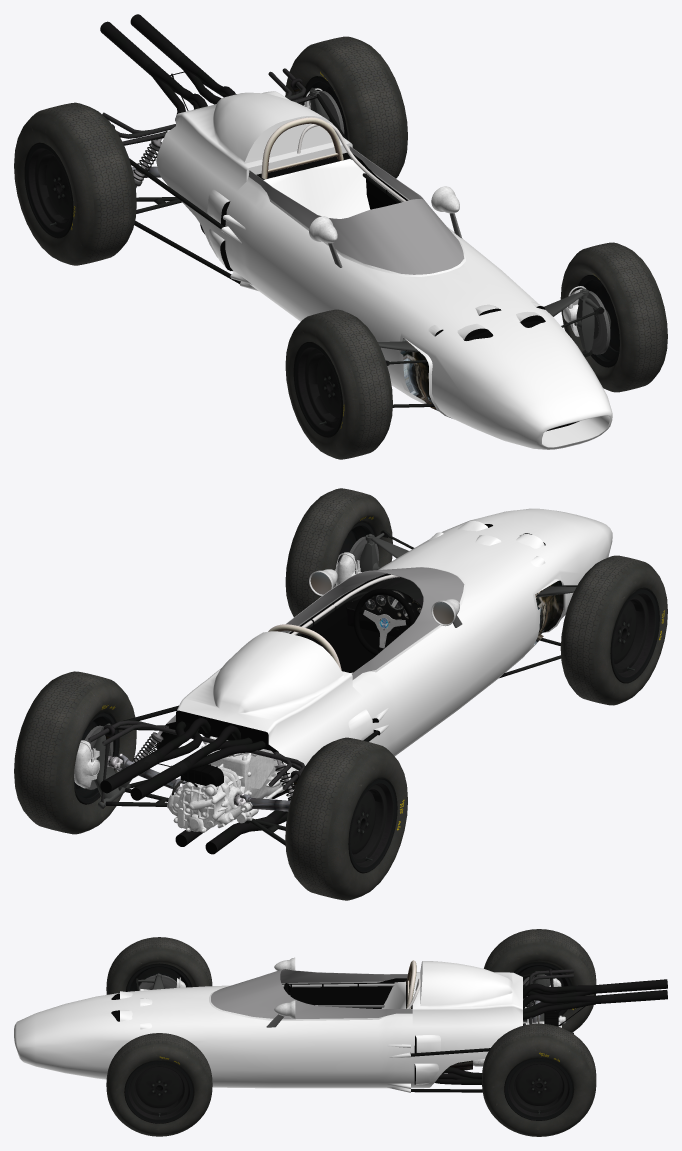
File: f1_1965_honda_ra272.glb
The picture shows the model from 3 angles, top to bottom: view 1: azimuth 30°, elevation 25°; view 2: azimuth 150°, elevation 25°; view 3: azimuth 270°, elevation 25°; orthographic projection. The views are drawn at different scales.
Parts seen in each view (by area): view 1: f1_1965_honda_ra272; view 2: f1_1965_honda_ra272; view 3: f1_1965_honda_ra272.
Part boxes in pixels (x1=…): f1_1965_honda_ra272: x1=14, y1=14, x2=667, y2=459; f1_1965_honda_ra272: x1=14, y1=488, x2=667, y2=900; f1_1965_honda_ra272: x1=14, y1=929, x2=667, y2=1136.
Bounding box in the file's own units: 1.6 × 0.7836 × 3.86.
53 materials, 53 textured.
